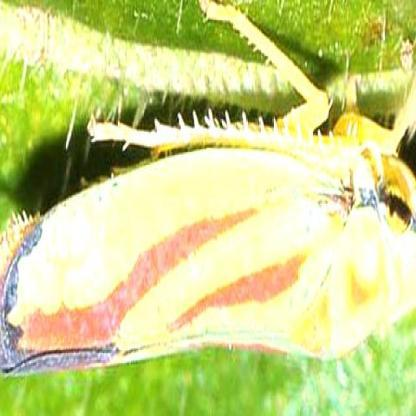green-leafhopper: (3, 113, 414, 368)
